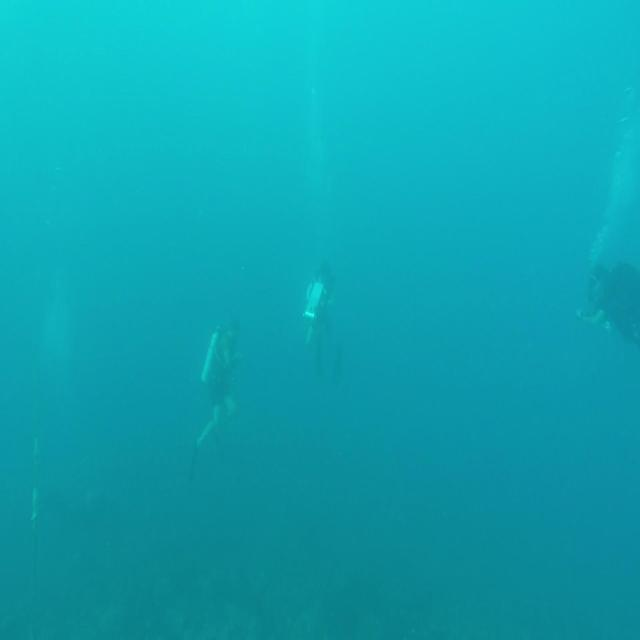human: (187, 318, 242, 482), (576, 257, 639, 346), (302, 260, 341, 380)
